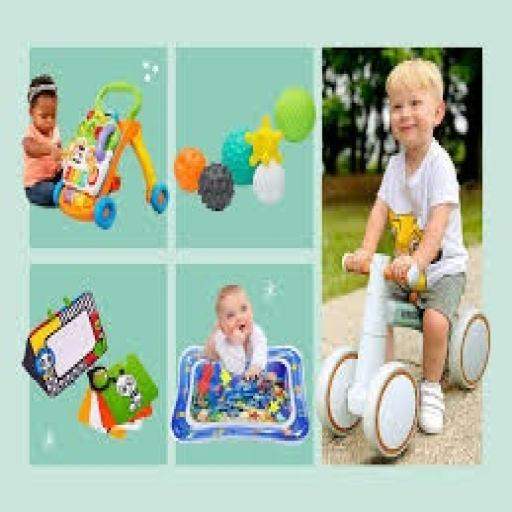baby: (347, 61, 466, 435), (204, 284, 266, 384), (19, 76, 64, 208)
